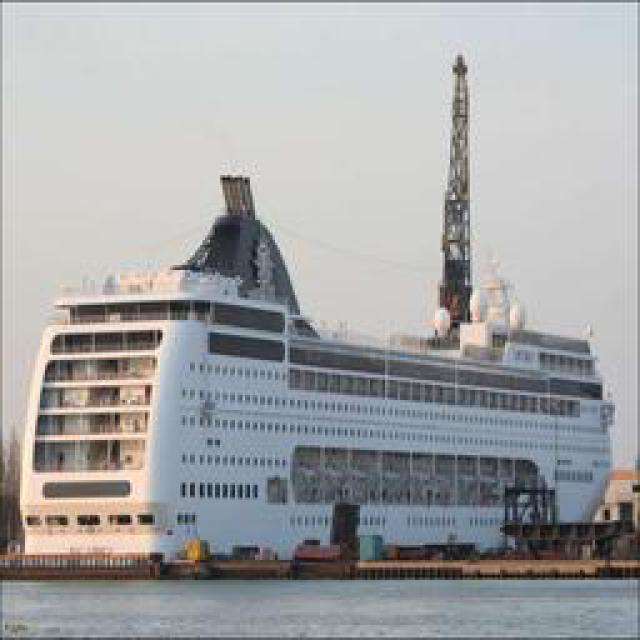Ship: (13, 180, 621, 583)
